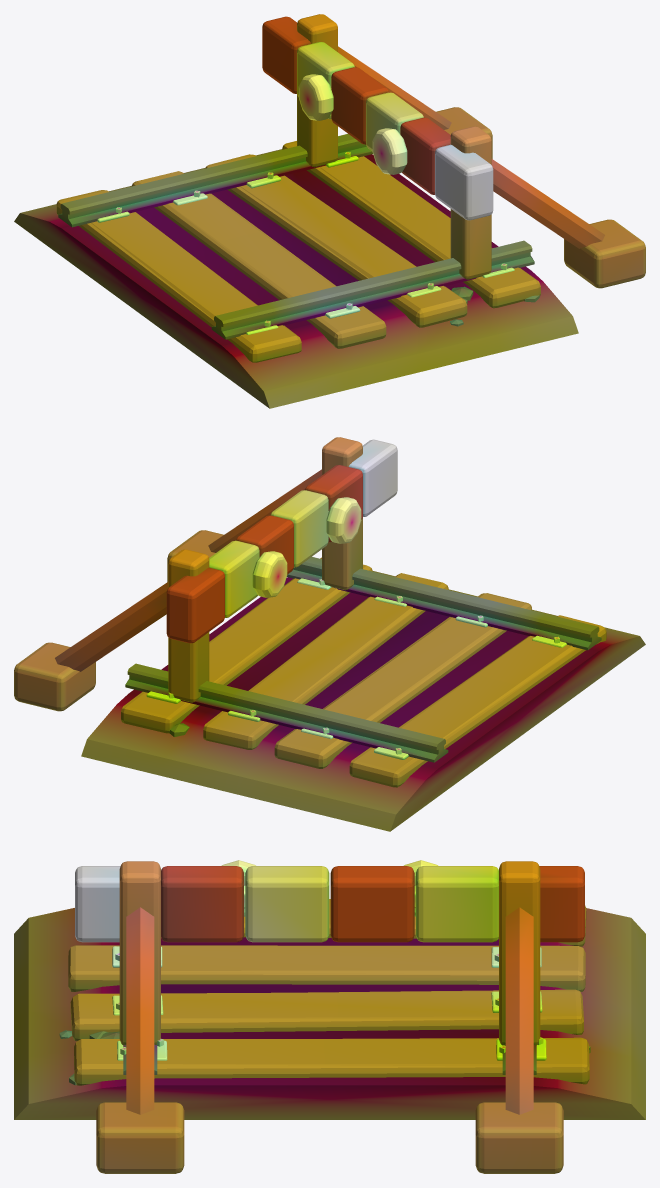
File: Track_BufferStop.fbx
3 renders of one model, top to bottom at view 1: azimuth 30°, elevation 25°; view 2: azimuth 150°, elevation 25°; view 3: azimuth 270°, elevation 25°, orthographic. The views are drawn at different scales.
Visible parts, largest first — view 1: Track_BufferStop; view 2: Track_BufferStop; view 3: Track_BufferStop.
Boxes of the visible parts, x1,y1,x2,y2 form: Track_BufferStop: [14, 14, 645, 408]; Track_BufferStop: [14, 437, 645, 831]; Track_BufferStop: [14, 860, 645, 1173].
Bounding box in the file's own units: 4 × 1.64 × 4.3.
